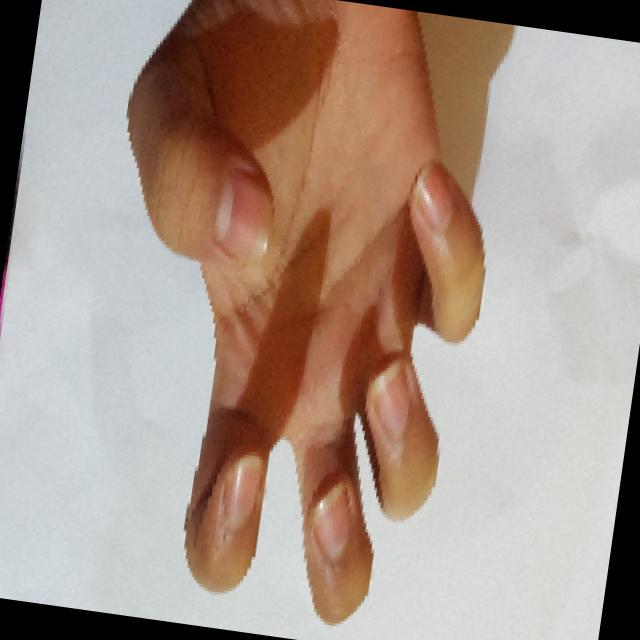Nail: (215, 168, 272, 257), (311, 480, 351, 557), (226, 454, 263, 530), (371, 362, 409, 430), (413, 162, 453, 225)
